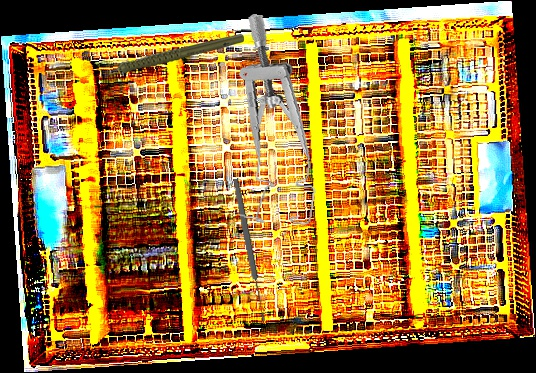Handpiece: (96, 32, 244, 75)
Speculum: (221, 13, 337, 229)
Surgical Spoon: (231, 178, 268, 322)
